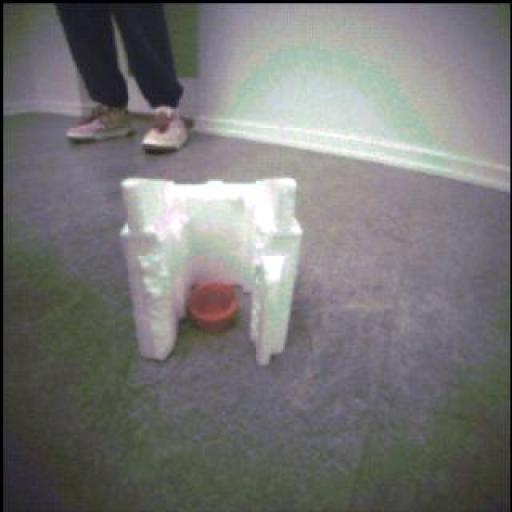Bucket: (188, 281, 240, 335)
